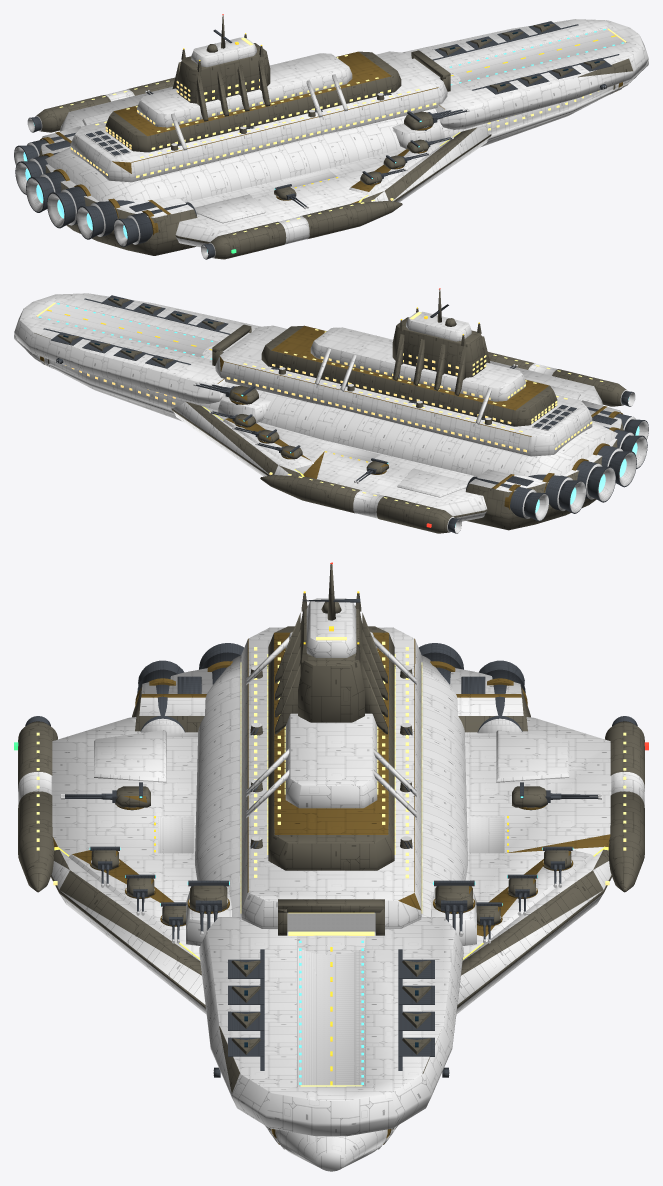
File: leviathan_production_v1_lod1.glb
The picture shows the model from 3 angles, top to bottom: view 1: azimuth 30°, elevation 25°; view 2: azimuth 150°, elevation 25°; view 3: azimuth 270°, elevation 25°; orthographic projection. The views are drawn at different scales.
Parts seen in each view (by area): view 1: LOD0_MOTION_HULL_CORE_Hull, LOD0_MOTION_HULL_CORE_Armor, LOD0_MOTION_HULL_CORE_Mechanical, LOD0_MOTION_HULL_CORE_MechanicalDark, LOD0_MOTION_HULL_CORE_Livery, LOD0_MOTION_HULL_CORE_Lights_Warm, LOD0_MOTION_HULL_CORE_HOOK_DRIVE_CORE; view 2: LOD0_MOTION_HULL_CORE_Hull, LOD0_MOTION_HULL_CORE_Armor, LOD0_MOTION_HULL_CORE_Mechanical, LOD0_MOTION_HULL_CORE_MechanicalDark, LOD0_MOTION_HULL_CORE_Livery, LOD0_MOTION_HULL_CORE_Lights_Warm, LOD0_MOTION_HULL_CORE_HOOK_ARMOR_PORT_Hull, LOD0_MOTION_HULL_CORE_HOOK_DRIVE_CORE; view 3: LOD0_MOTION_HULL_CORE_Hull, LOD0_MOTION_HULL_CORE_Armor, LOD0_MOTION_HULL_CORE_MechanicalDark, LOD0_MOTION_HULL_CORE_Mechanical, LOD0_MOTION_HULL_CORE_Livery, LOD0_MOTION_HULL_CORE_Lights_Warm, LOD0_MOTION_HULL_CORE_HOOK_ARMOR_PORT_Hull.
Part boxes in pixels (x1,y1,x2,y2): LOD0_MOTION_HULL_CORE_Hull: [41, 19, 648, 247]; LOD0_MOTION_HULL_CORE_Armor: [36, 24, 632, 259]; LOD0_MOTION_HULL_CORE_Mechanical: [14, 21, 619, 259]; LOD0_MOTION_HULL_CORE_MechanicalDark: [14, 27, 636, 258]; LOD0_MOTION_HULL_CORE_Livery: [40, 51, 622, 235]; LOD0_MOTION_HULL_CORE_Lights_Warm: [59, 28, 626, 234]; LOD0_MOTION_HULL_CORE_HOOK_DRIVE_CORE: [23, 123, 207, 252]; LOD0_MOTION_HULL_CORE_Hull: [14, 293, 621, 521]; LOD0_MOTION_HULL_CORE_Armor: [34, 298, 626, 533]; LOD0_MOTION_HULL_CORE_Mechanical: [43, 295, 648, 533]; LOD0_MOTION_HULL_CORE_MechanicalDark: [25, 301, 648, 533]; LOD0_MOTION_HULL_CORE_Livery: [40, 326, 622, 509]; LOD0_MOTION_HULL_CORE_Lights_Warm: [36, 302, 603, 508]; LOD0_MOTION_HULL_CORE_HOOK_ARMOR_PORT_Hull: [397, 468, 468, 497]; LOD0_MOTION_HULL_CORE_HOOK_DRIVE_CORE: [455, 397, 639, 526]; LOD0_MOTION_HULL_CORE_Hull: [18, 598, 644, 1171]; LOD0_MOTION_HULL_CORE_Armor: [18, 593, 644, 1130]; LOD0_MOTION_HULL_CORE_MechanicalDark: [61, 666, 571, 1155]; LOD0_MOTION_HULL_CORE_Mechanical: [25, 643, 637, 1077]; LOD0_MOTION_HULL_CORE_Livery: [53, 632, 610, 1144]; LOD0_MOTION_HULL_CORE_Lights_Warm: [36, 637, 626, 1086]; LOD0_MOTION_HULL_CORE_HOOK_ARMOR_PORT_Hull: [496, 730, 569, 782].
Size of what is drawn, in the model's own units: 61.1 by 17.37 by 33.12.
Materials: 13 (5 with a texture image).
